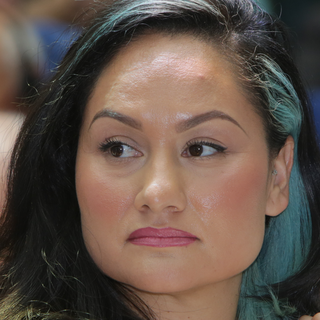eye: (173, 132, 231, 166), (94, 135, 149, 166)
